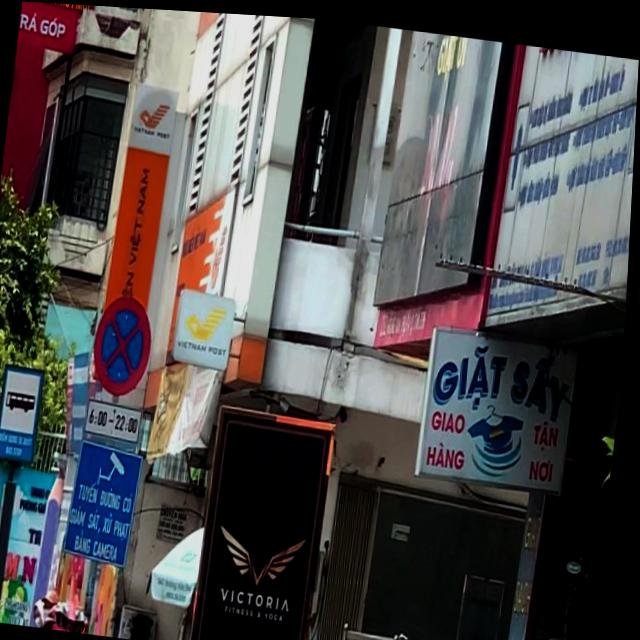Ben xe buyt: (0, 364, 47, 463)
Cam dung xe va do xe: (92, 290, 160, 397)
